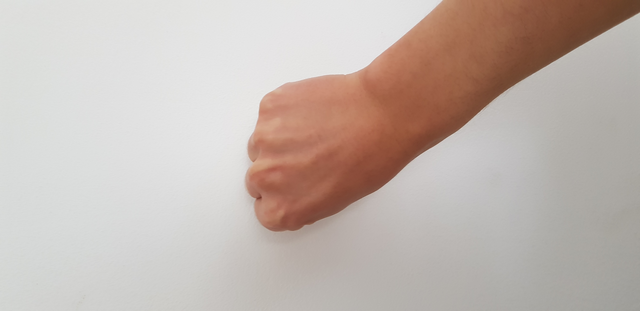Rock: (206, 64, 454, 240)
